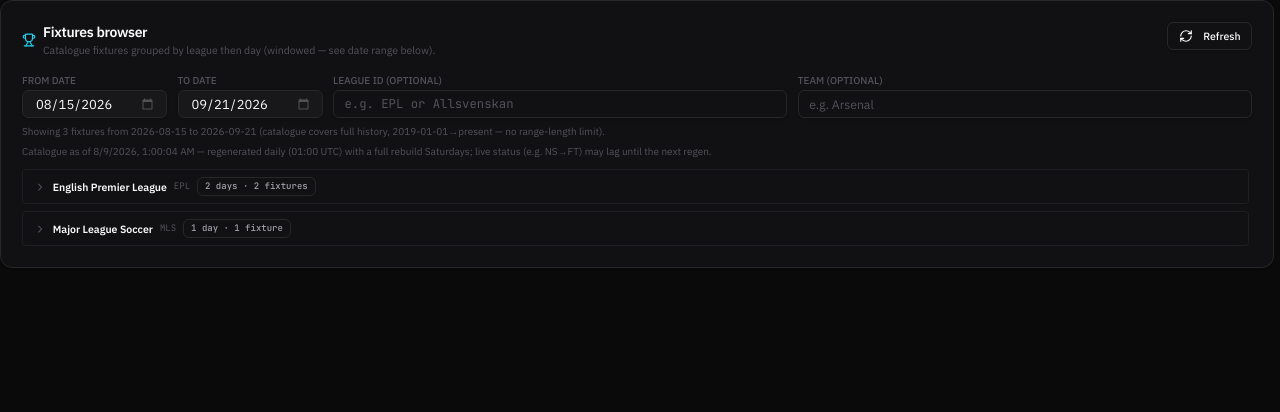
Test: FixturesBrowser › expanding a league then a day reveals its fixtures
Expected: the element with test id "fixtures-browser-league-EPL" is shown, [22, 169, 1248, 204]
Click the heading "English Premier League EPL 2 days · 2 fixtures" at (175, 187), box [34, 177, 316, 196]
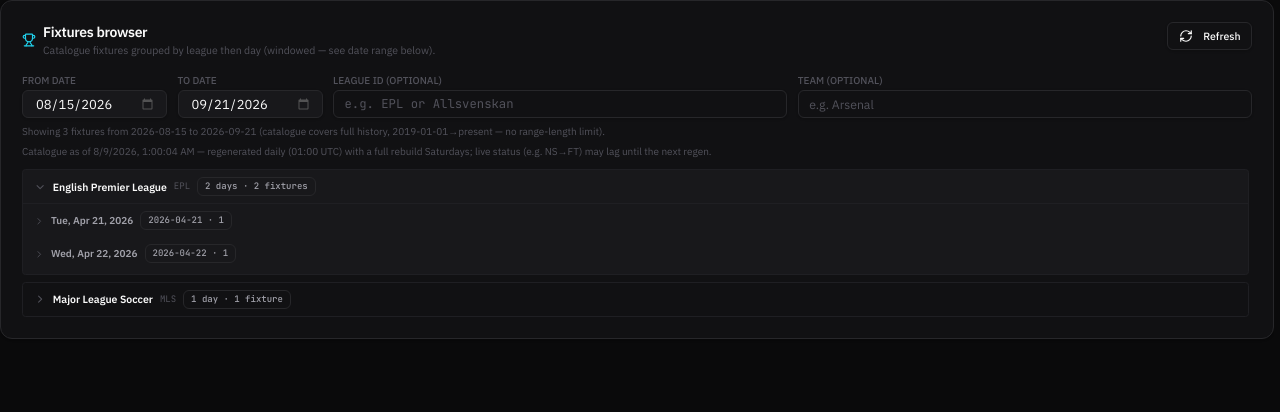
Expected: the element with test id "fixtures-browser-day-EPL-2026-04-21" is shown
Click the heading "Tue, Apr 21, 2026 2026-04-21 · 1" at (133, 221), box [34, 211, 232, 230]
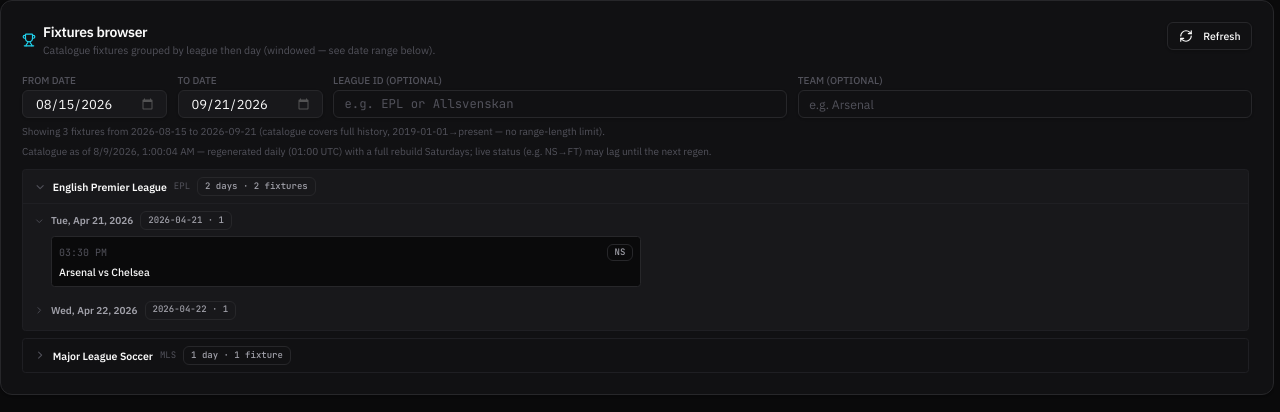
Expected: the element with test id "fixtures-browser-fixture-fx-1" is shown, [51, 236, 641, 286]
Expected: the text "Arsenal vs Chelsea" is shown, [59, 264, 150, 278]
